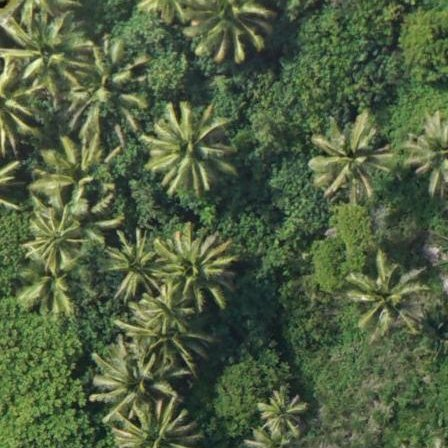palm_tree: (30, 127, 122, 224), (307, 109, 394, 201), (147, 103, 229, 191), (154, 224, 234, 310), (347, 258, 425, 334), (7, 17, 85, 93), (181, 1, 270, 65), (97, 346, 175, 413), (22, 202, 87, 271), (99, 234, 164, 299), (116, 401, 198, 448), (410, 117, 448, 193), (257, 385, 310, 436)
